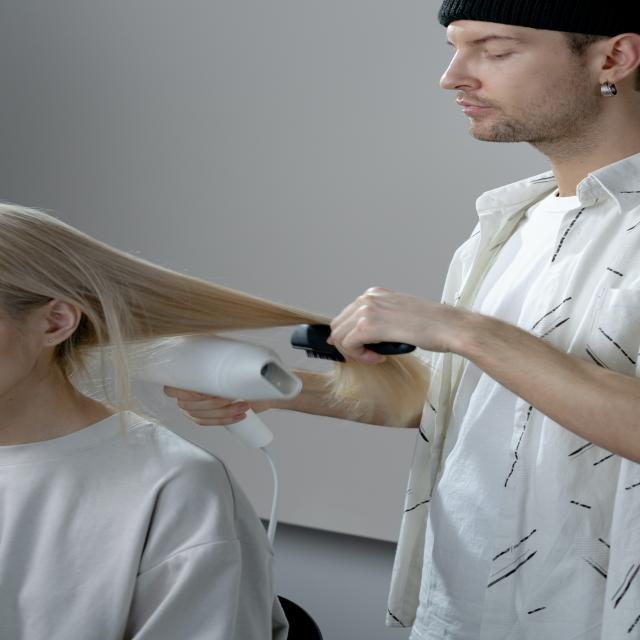dryer: (123, 330, 308, 452)
